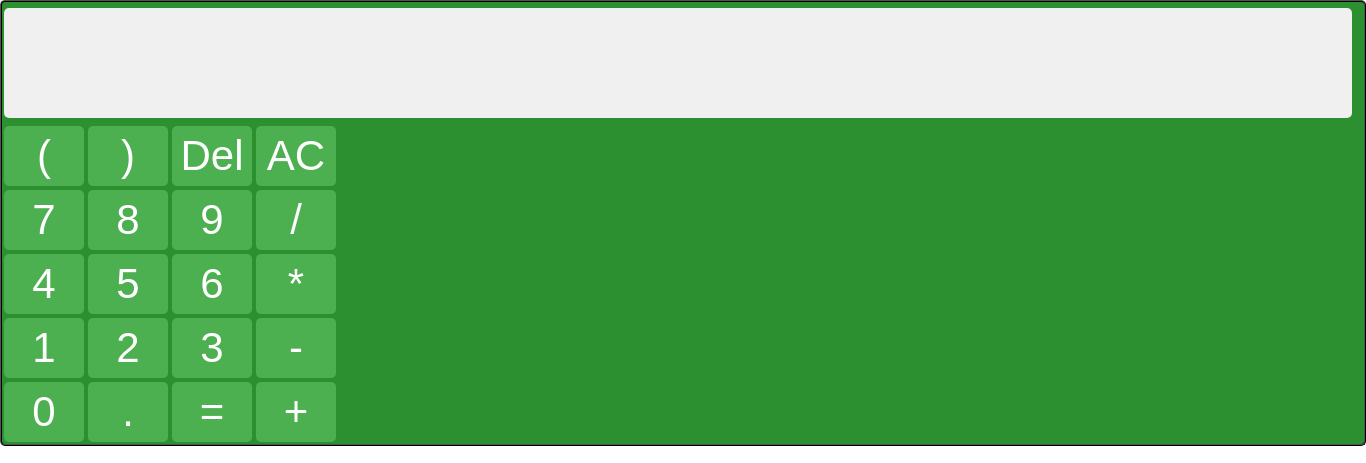
Calc › calculates result when '=' is pressed
What coordinates should you click on to do the following:
click the button with test id "input-key-5"
I would click on:
 (128, 284)
Its box is [88, 254, 168, 314].
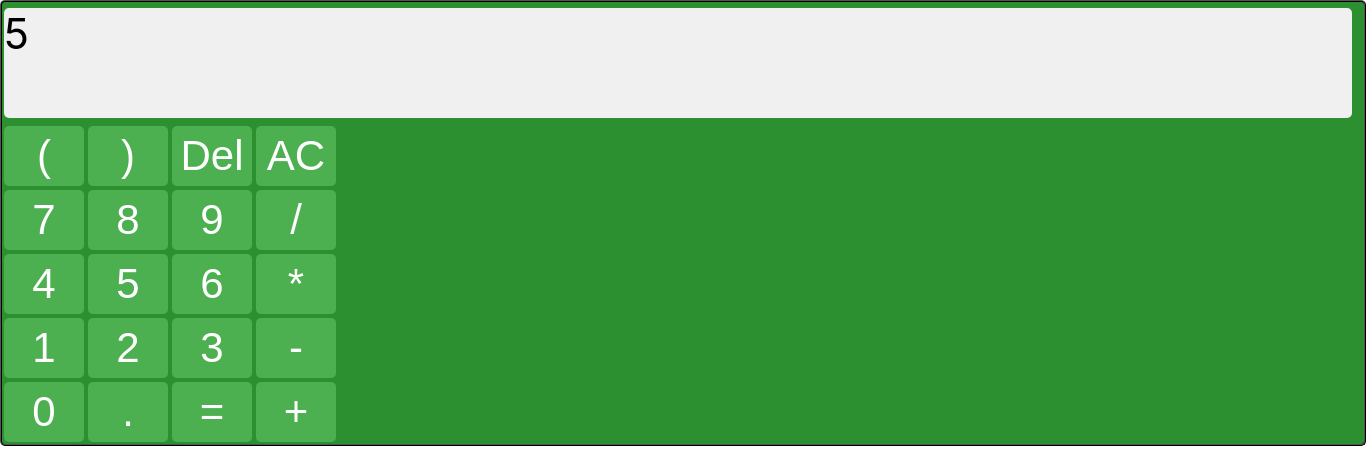
What coordinates should you click on to do the following:
click the button with test id "input-key-+"
I would click on:
 (296, 412)
Its box is [256, 382, 336, 442].
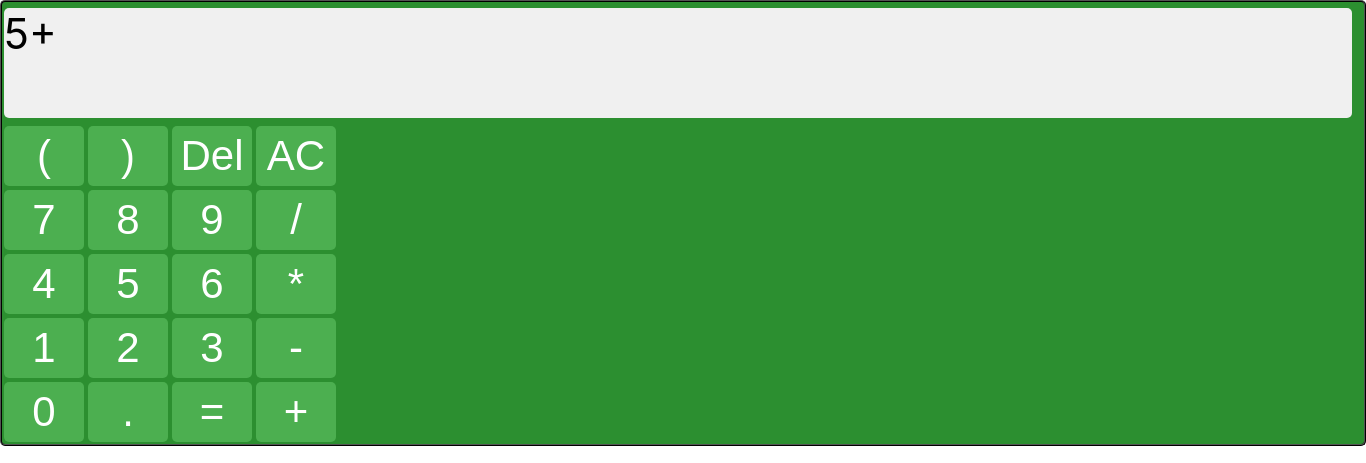
What coordinates should you click on to do the following:
click the button with test id "input-key-6"
I would click on:
 (212, 284)
Its box is [172, 254, 252, 314].
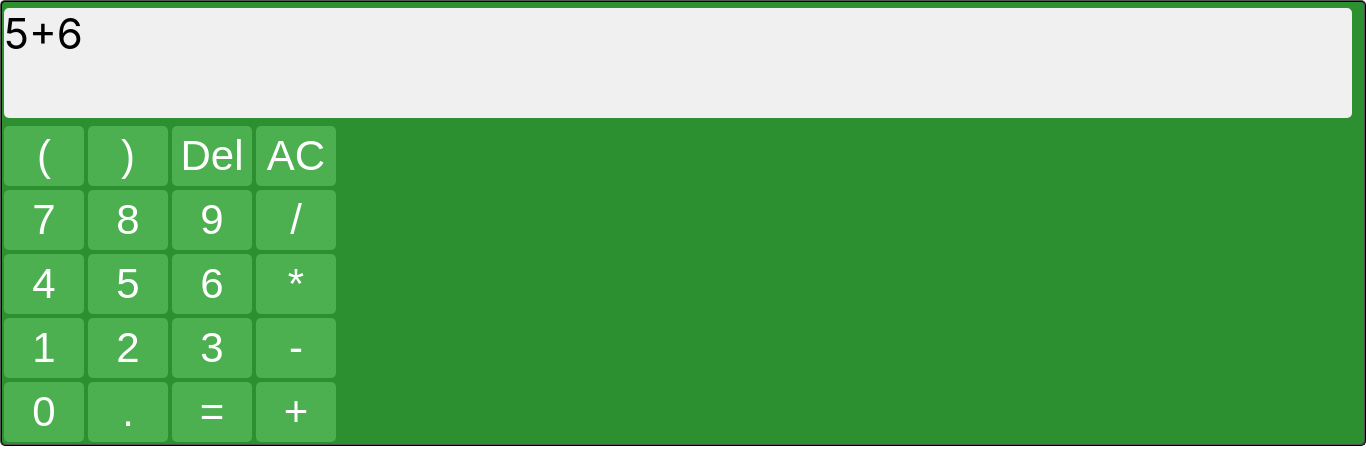
What coordinates should you click on to do the following:
click the button with test id "input-key-="
I would click on:
 (212, 412)
Its box is [172, 382, 252, 442].
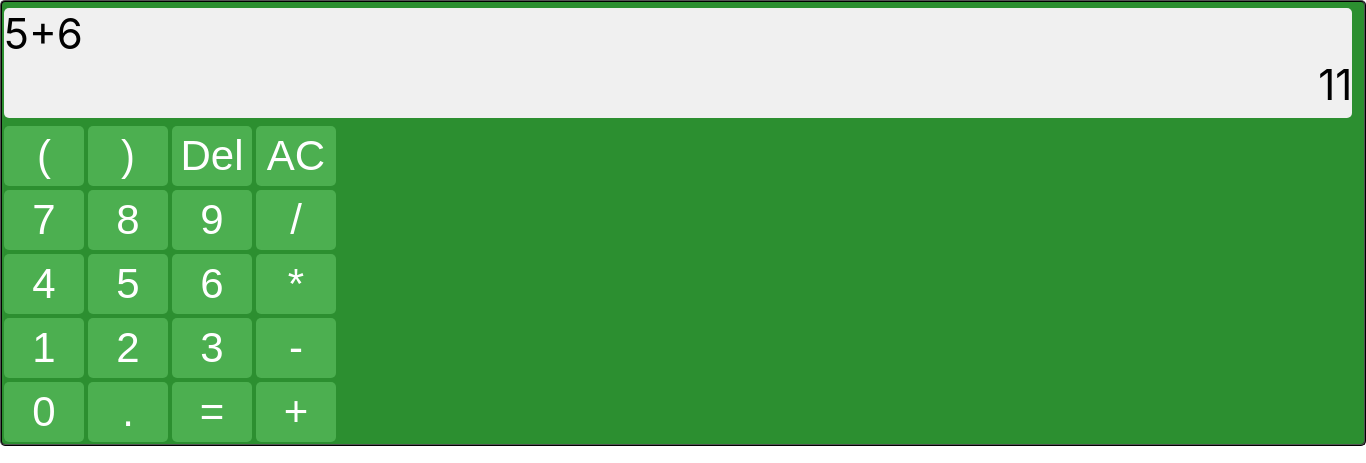
Expected: the text with test id "display-expression" reads "5+6", [4, 8, 83, 59]
Expected: the text with test id "display-result" reads "11", [1318, 59, 1352, 110]
